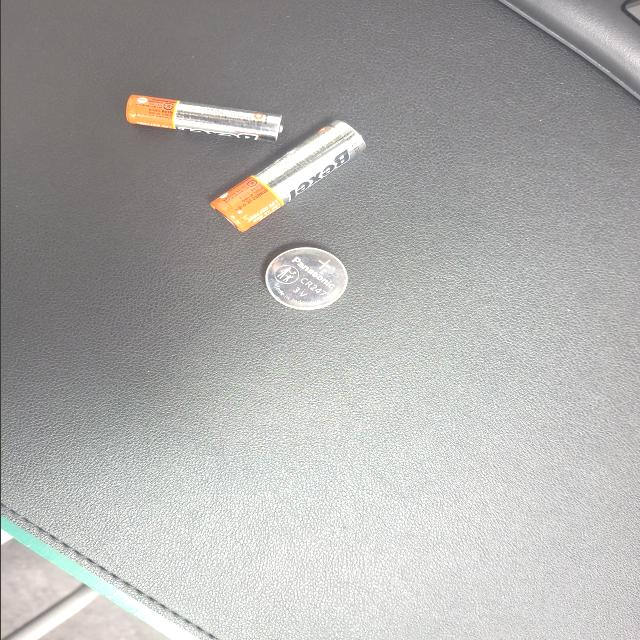AA: (0, 205, 98, 320)
COIN: (116, 220, 200, 284)
